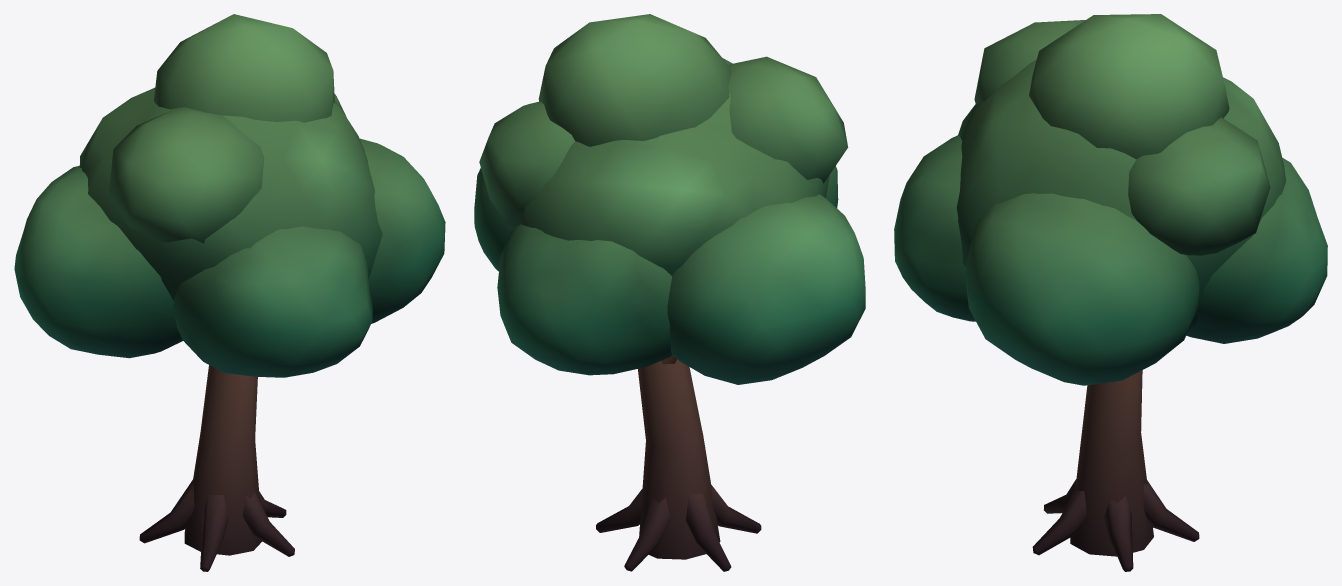
File: oak.glb
3 views of the same model, side by side, from view 1: azimuth 30°, elevation 25°; view 2: azimuth 150°, elevation 25°; view 3: azimuth 270°, elevation 25° (orthographic). The views are drawn at different scales.
Visible parts, largest first — view 1: oak_body; view 2: oak_body; view 3: oak_body.
Part boxes in pixels (bbox=[...]): oak_body: bbox=[14, 14, 445, 571]; oak_body: bbox=[474, 14, 865, 571]; oak_body: bbox=[894, 14, 1327, 571].
Size of the model in its own units: 4.33 by 5.48 by 4.02.
